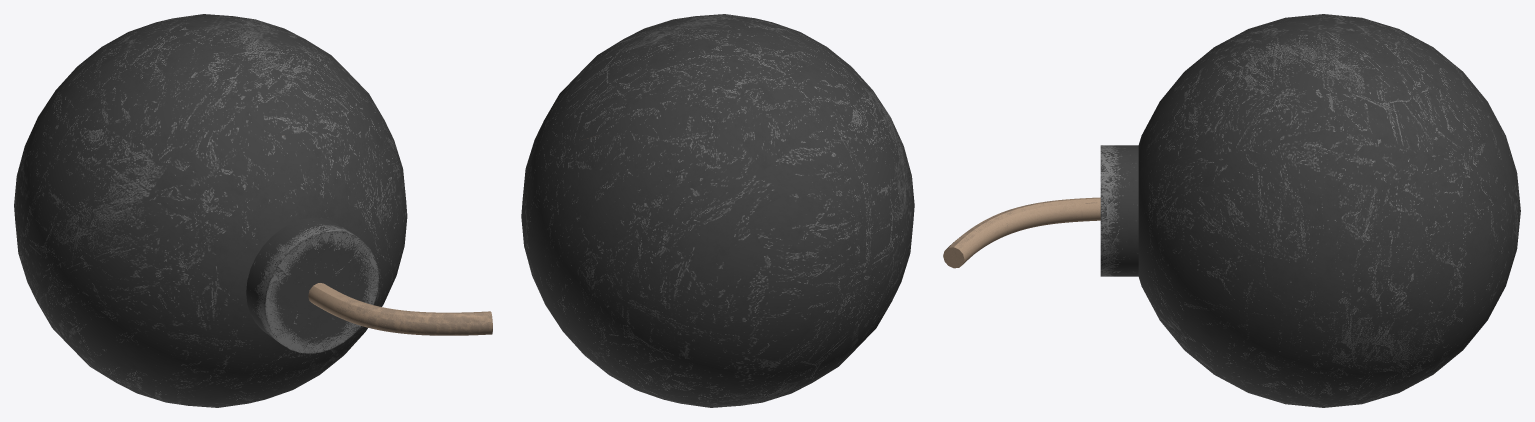
The model's file is bom .fbx.
3 views of the same model, side by side, from view 1: azimuth 30°, elevation 25°; view 2: azimuth 150°, elevation 25°; view 3: azimuth 270°, elevation 25° (orthographic).
Visible parts, largest first — view 1: bom_; view 2: bom_; view 3: bom_.
Part boxes in pixels (x1,y1,x2,y2): bom_: (14, 14, 492, 407); bom_: (521, 14, 914, 407); bom_: (943, 14, 1520, 407).
Size of the model in its own units: 2 by 2 by 2.93.
